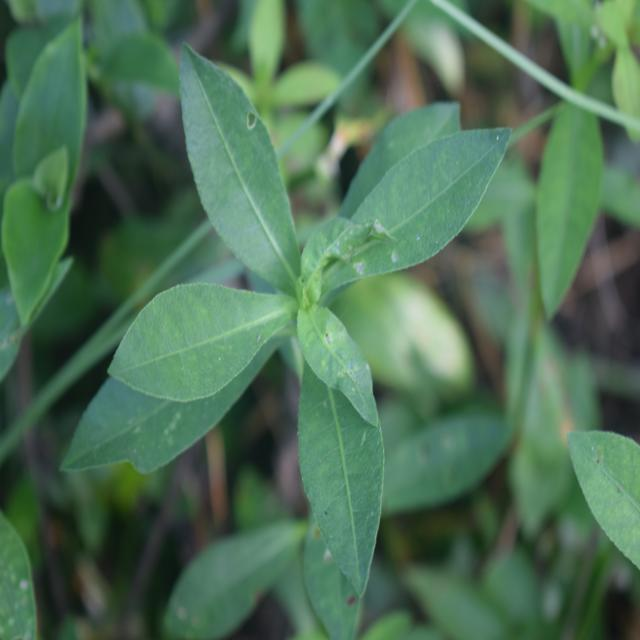Alligatorweed: (124, 52, 505, 582)
